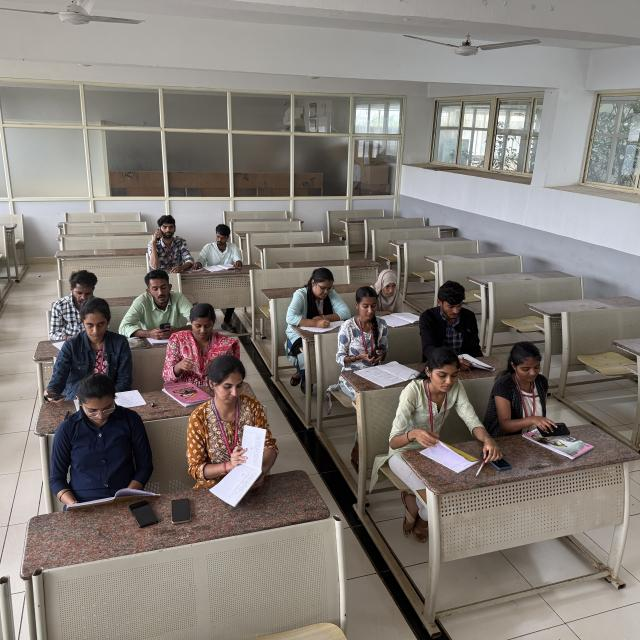Reading: (48, 376, 158, 507), (197, 217, 252, 289), (370, 267, 420, 323)
Using Phone: (124, 271, 194, 344), (335, 292, 390, 374)
Writing: (288, 265, 352, 335)
